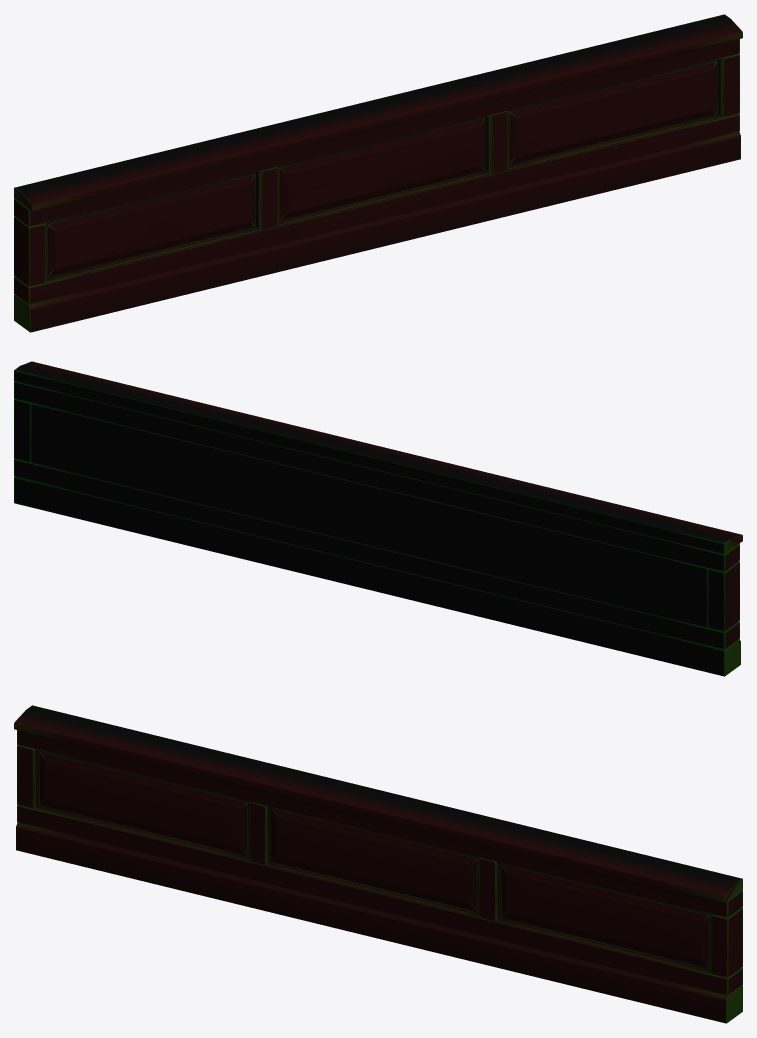
The model's file is stallriser_panelled.glb.
3 views of the same model, one above another, from view 1: azimuth 30°, elevation 25°; view 2: azimuth 150°, elevation 25°; view 3: azimuth 330°, elevation 25° (orthographic).
Parts seen in each view (by area): view 1: stallriser_panelled; view 2: stallriser_panelled; view 3: stallriser_panelled.
Boxes of the visible parts, x1,y1,x2,y2 form: stallriser_panelled: [14, 14, 742, 332]; stallriser_panelled: [14, 361, 742, 676]; stallriser_panelled: [14, 705, 742, 1023].
Size of the model in its own units: 3.35 by 0.6 by 0.15.
